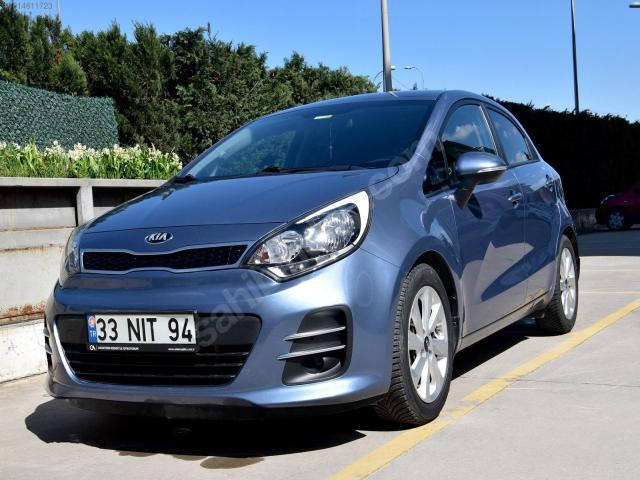plaka: (86, 314, 196, 345)
